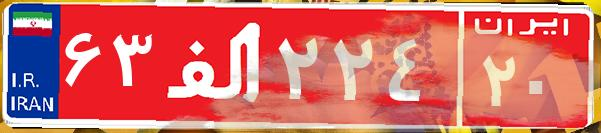0: (525, 38, 570, 115)
2: (273, 28, 330, 110), (330, 28, 385, 110), (475, 38, 525, 113)
3: (110, 28, 158, 105)
4: (385, 28, 445, 110)
6: (57, 26, 110, 107)
الف: (158, 15, 273, 115)
